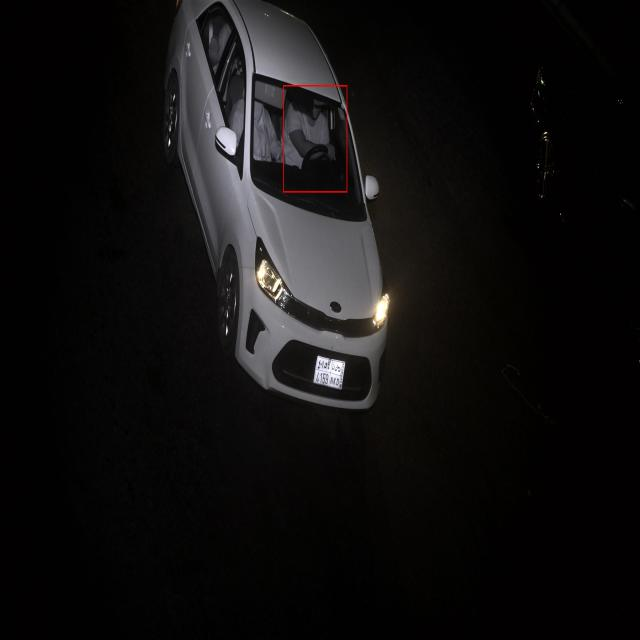windshield: (242, 69, 368, 225)
